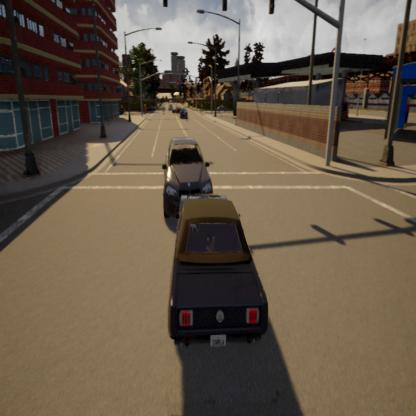Cars: (160, 184, 272, 354), (158, 124, 216, 216), (178, 107, 190, 122), (170, 105, 185, 116), (168, 101, 174, 113)
Pedestrian: (162, 106, 166, 118)
